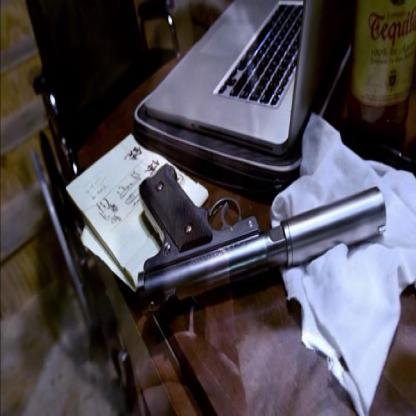Guns: (128, 148, 387, 318)
